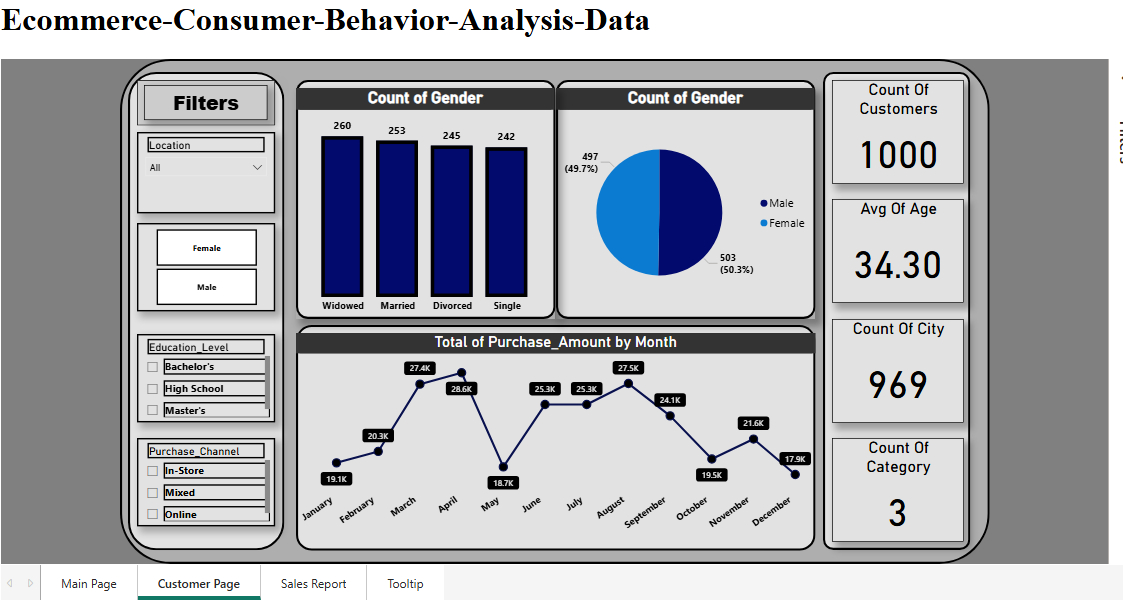

Layout of this report page (visuals, bound fields, positions):
{"tool":"powerbi","page":{"name":"Customer Page","canvas":[1280,720],"ordinal":1},"visuals":[{"type":"shape","title":"Filters","box":[44.1,29.4,196.9,64.7],"z":0},{"type":"shape","box":[20.6,0,1240.2,720],"z":1000},{"type":"shape","box":[1022.7,19.1,210.1,681.8],"z":2000},{"type":"shape","box":[30.9,19.1,223.3,681.8],"z":3000},{"type":"shape","box":[270.4,29.4,370.3,340.9],"z":4000},{"type":"shape","box":[642.1,29.4,370.3,340.9],"z":5000},{"type":"shape","box":[270.4,379.1,740.6,321.8],"z":6000},{"type":"card","title":"Count Of Customers","fields":{"Values":["Count(Ecommerce_Consumer_Behavior_Analysis_Data.Customer_ID)"]},"box":[1034.4,29.4,188.1,148.4],"z":7000},{"type":"card","title":"Avg Of Age","fields":{"Values":["Avg(Ecommerce_Consumer_Behavior_Analysis_Data.Age)"]},"box":[1034.4,199.8,188.1,148.4],"z":8000},{"type":"card","title":"Count Of City","fields":{"Values":["Count(Ecommerce_Consumer_Behavior_Analysis_Data.Location)"]},"box":[1034.4,370.3,188.1,148.4],"z":9000},{"type":"card","title":"Count Of Category","fields":{"Values":["Count(Ecommerce_Consumer_Behavior_Analysis_Data.Purchase_Channel)"]},"box":[1034.4,540.7,188.1,148.4],"z":10000},{"type":"lineChart","title":"Total of Purchase_Amount by Month","fields":{"Category":["Ecommerce_Consumer_Behavior_Analysis_Data.Time_of_Purchase.Variation.Date Hierarchy.Month"],"Y":["Sum(Ecommerce_Consumer_Behavior_Analysis_Data.Purchase_Amount)"]},"box":[270.4,390.9,740.6,299.8],"z":11000},{"type":"pieChart","title":"Count of Gender","fields":{"Category":["Ecommerce_Consumer_Behavior_Analysis_Data.Gender"],"Y":["CountNonNull(Ecommerce_Consumer_Behavior_Analysis_Data.Gender)"]},"box":[642.1,41.1,368.8,329.1],"z":12000},{"type":"columnChart","title":"Count of Gender","fields":{"Y":["CountNonNull(Ecommerce_Consumer_Behavior_Analysis_Data.Customer_ID)"],"Category":["Ecommerce_Consumer_Behavior_Analysis_Data.Marital_Status"]},"box":[270.4,41.1,368.8,329.1],"z":13000},{"type":"slicer","fields":{"Values":["Ecommerce_Consumer_Behavior_Analysis_Data.Location"]},"box":[44.1,104.3,196.9,116.1],"z":14000},{"type":"slicer","fields":{"Values":["Ecommerce_Consumer_Behavior_Analysis_Data.Gender"]},"box":[44.1,233.6,196.9,126.4],"z":15000},{"type":"slicer","fields":{"Values":["Ecommerce_Consumer_Behavior_Analysis_Data.Purchase_Channel"]},"box":[44.1,540.7,196.9,126.4],"z":16000},{"type":"slicer","fields":{"Values":["Ecommerce_Consumer_Behavior_Analysis_Data.Education_Level"]},"box":[44.1,392.3,196.9,126.4],"z":17000},{"type":"shape","box":[44.1,29.4,196.9,64.7],"z":18000},{"type":"textbox","box":[54.4,36.7,176.3,50],"z":19000}]}

Visuals, with their boxes on the page's 1280x720 design canvas (x1, y1, x2, y2). These are canvas units, not pixel positions in the 1123x607 screenshot, which may show the page scaled, cropped or inside an application window:
"Filters" shape: 44, 29, 241, 94
shape: 21, 0, 1261, 720
shape: 1023, 19, 1233, 701
shape: 31, 19, 254, 701
shape: 270, 29, 641, 370
shape: 642, 29, 1012, 370
shape: 270, 379, 1011, 701
"Count Of Customers" card: 1034, 29, 1222, 178
"Avg Of Age" card: 1034, 200, 1222, 348
"Count Of City" card: 1034, 370, 1222, 519
"Count Of Category" card: 1034, 541, 1222, 689
"Total of Purchase_Amount by Month" lineChart: 270, 391, 1011, 691
"Count of Gender" pieChart: 642, 41, 1011, 370
"Count of Gender" columnChart: 270, 41, 639, 370
slicer - Ecommerce_Consumer_Behavior_Analysis_Data.Location: 44, 104, 241, 220
slicer - Ecommerce_Consumer_Behavior_Analysis_Data.Gender: 44, 234, 241, 360
slicer - Ecommerce_Consumer_Behavior_Analysis_Data.Purchase_Channel: 44, 541, 241, 667
slicer - Ecommerce_Consumer_Behavior_Analysis_Data.Education_Level: 44, 392, 241, 519
shape: 44, 29, 241, 94
textbox: 54, 37, 231, 87
